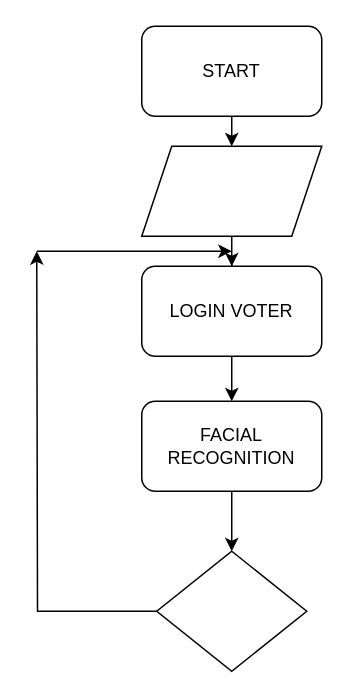
Image size: 348x698. Some labels were removed from this diagram. The shapes that lost their labels are listed below. From the top down, each one's box as (x1, y1, x2, y2) in pixels, then its label:
(140, 145, 322, 236): REGISTER VOTER
(155, 550, 307, 671): IDENTITY VERIFIED
